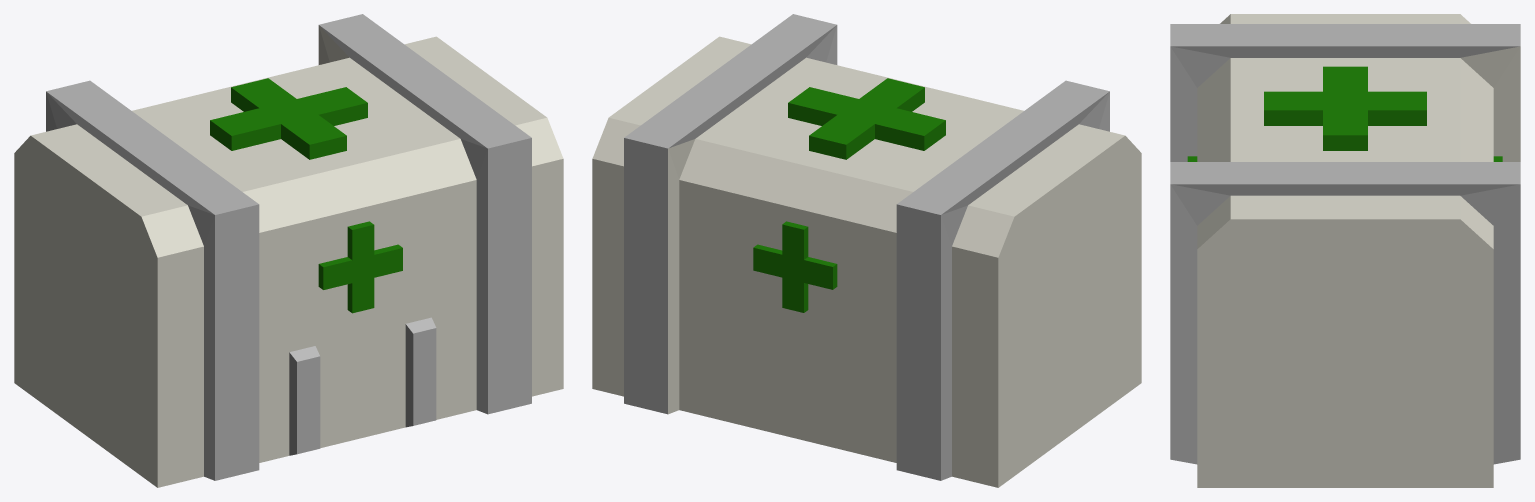
The model's file is HealthBoxfbx.fbx.
3 views of the same model, side by side, from view 1: azimuth 30°, elevation 25°; view 2: azimuth 150°, elevation 25°; view 3: azimuth 270°, elevation 25° (orthographic). The views are drawn at different scales.
Parts seen in each view (by area): view 1: Cube; view 2: Cube; view 3: Cube.
Part boxes in pixels (x1=…): Cube: x1=14, y1=14, x2=563, y2=487; Cube: x1=592, y1=14, x2=1141, y2=487; Cube: x1=1170, y1=14, x2=1520, y2=487.
Size of the model in its own units: 327 by 212 by 236.
